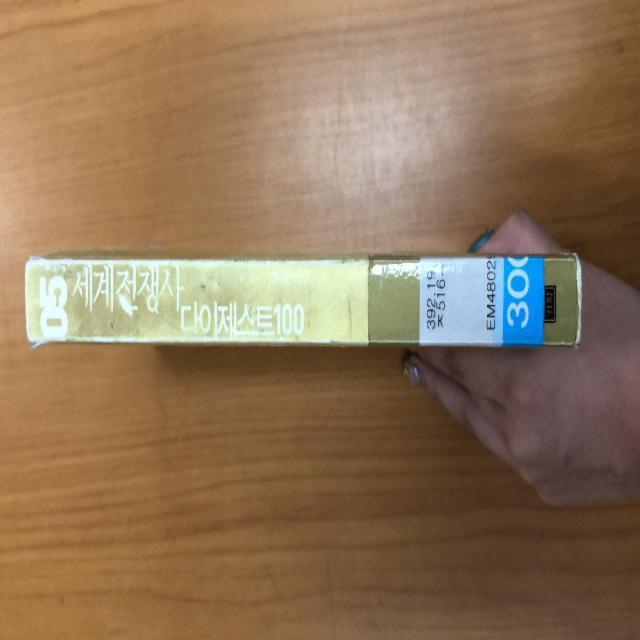Ripped: (24, 245, 53, 271), (23, 331, 50, 357)
Wornout: (557, 245, 587, 348), (335, 250, 365, 269), (323, 331, 353, 350), (227, 253, 257, 269), (264, 253, 294, 269)
